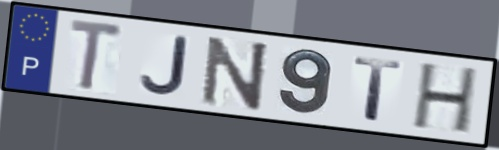9: (275, 46, 337, 118)
H: (409, 61, 483, 137)
J: (137, 34, 190, 98)
N: (199, 34, 273, 112)
T: (67, 16, 127, 94), (352, 55, 406, 125)
